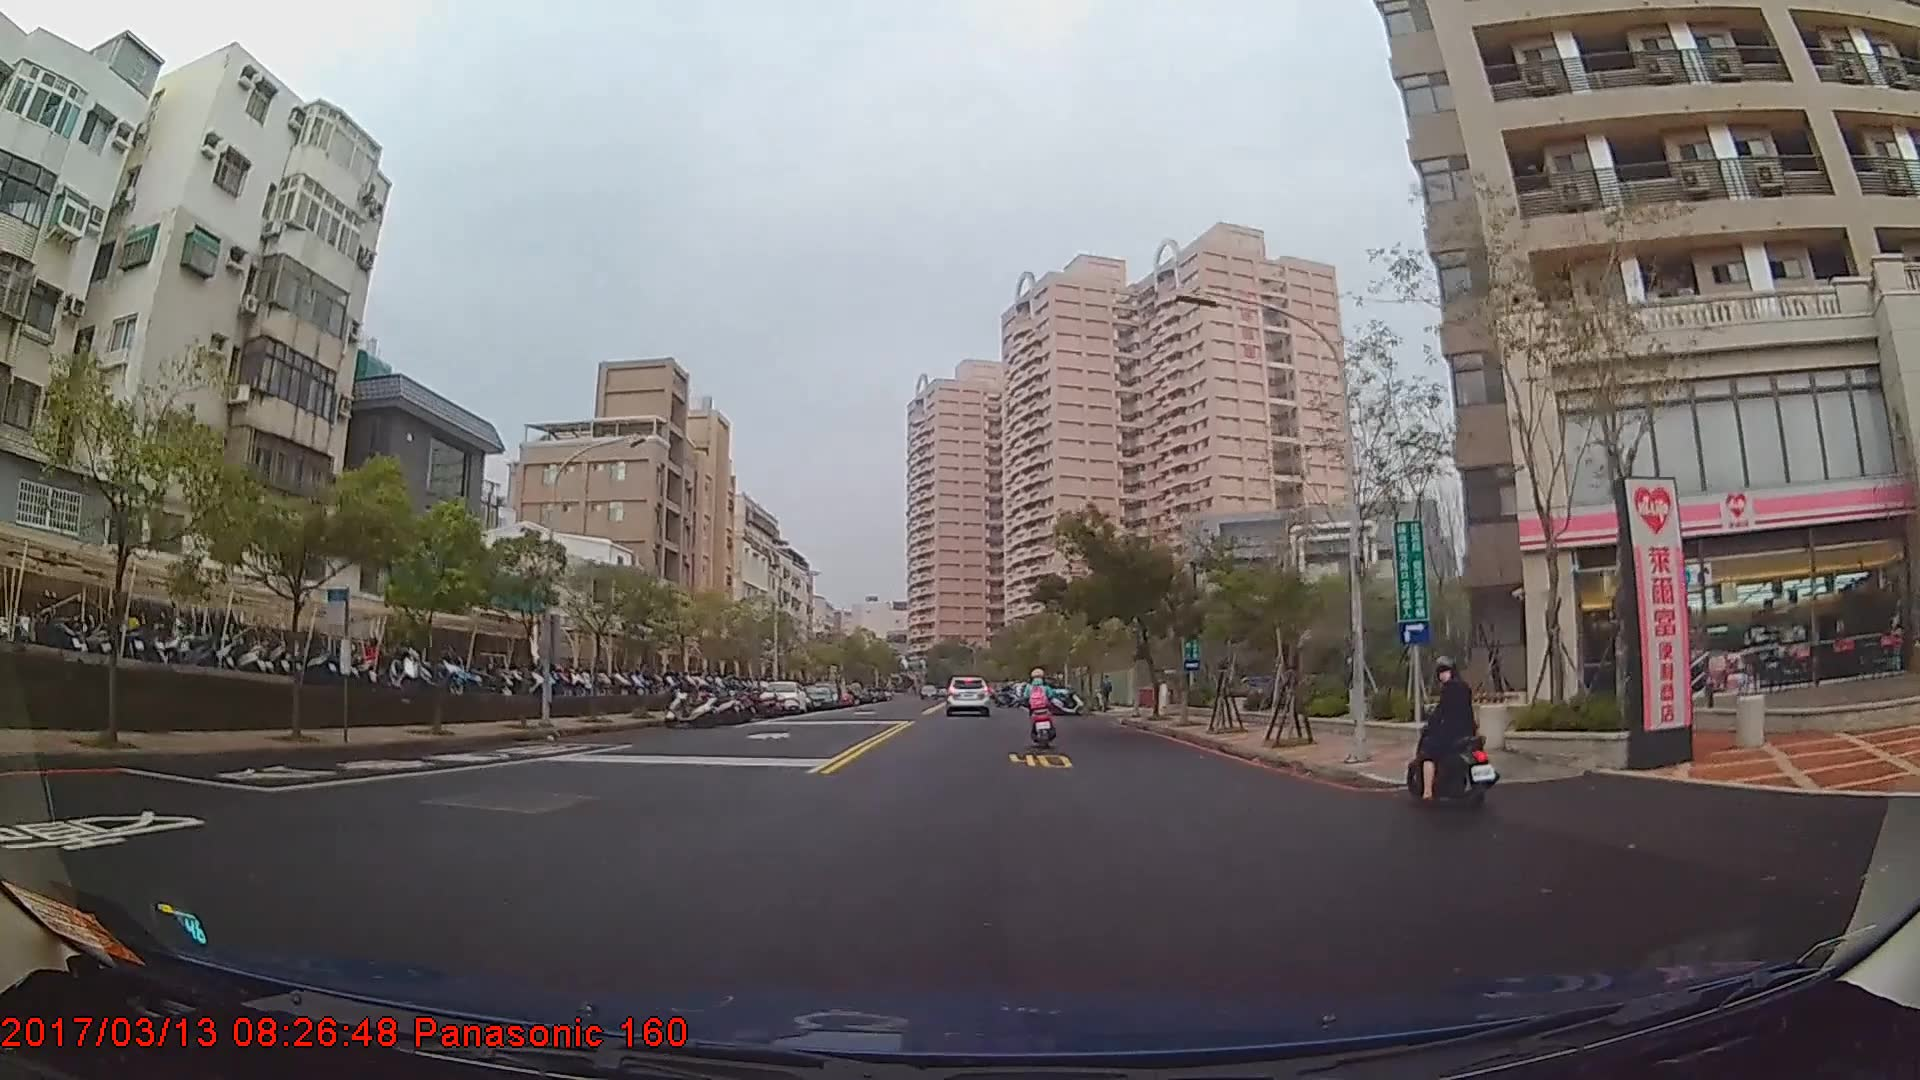rider: (1402, 659, 1504, 813), (1023, 672, 1058, 748)
vehicle: (941, 674, 992, 714), (757, 681, 808, 715)
